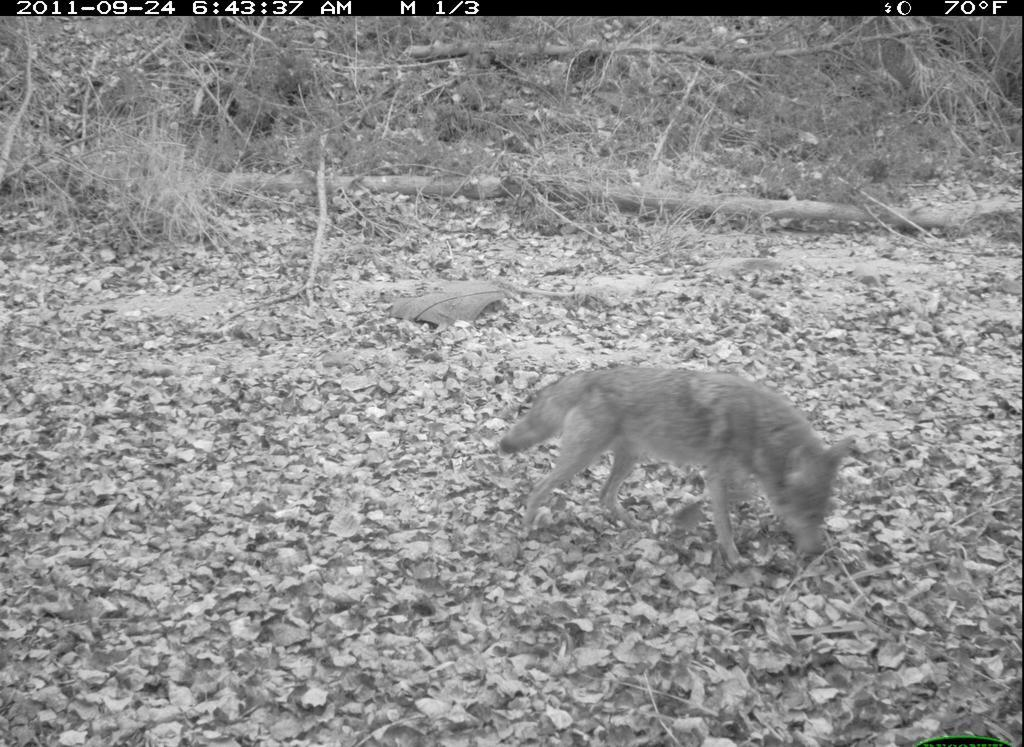coyote: (498, 349, 867, 580)
